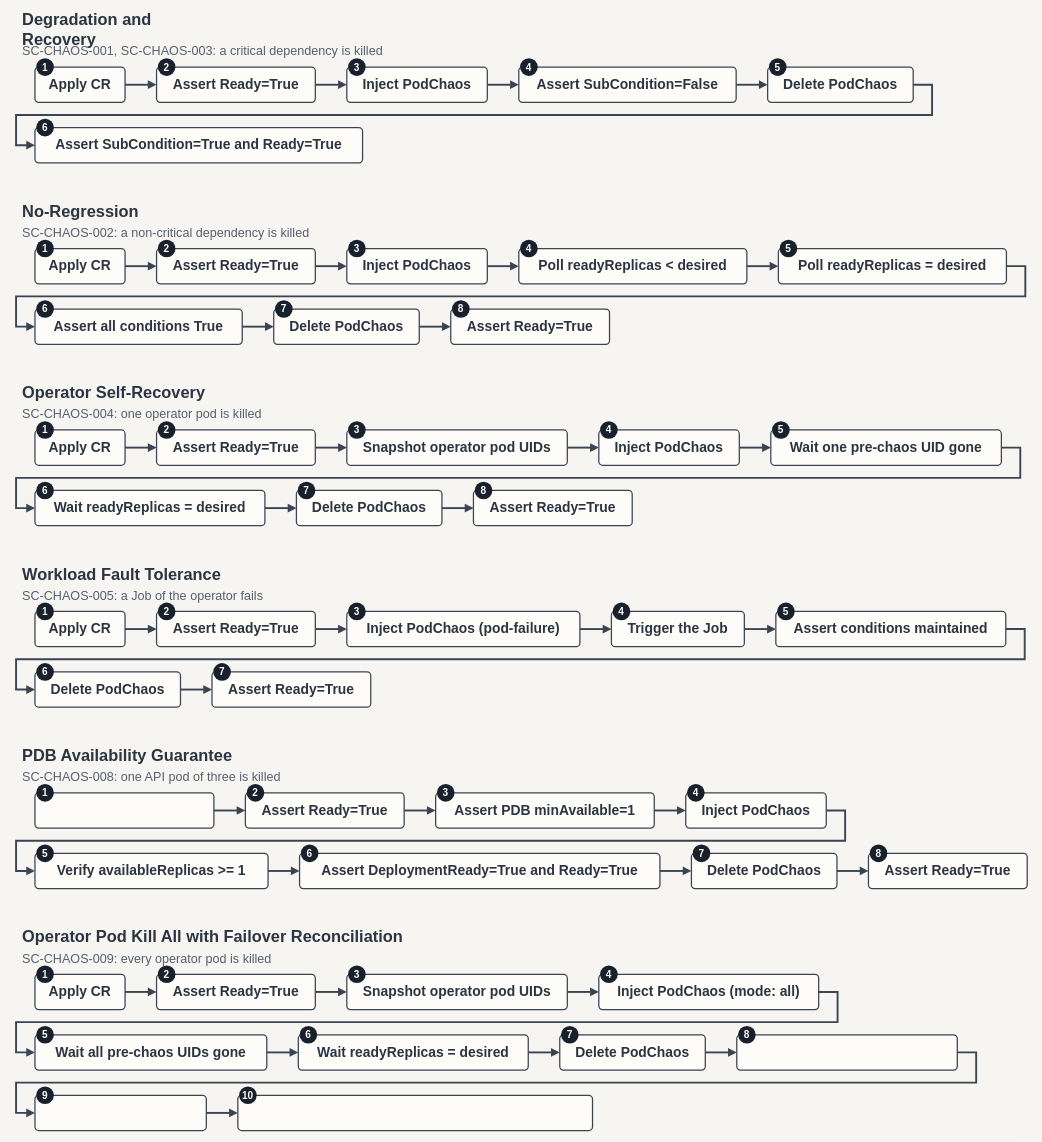
Some shapes in this 1042 by 1142 pixel diagram are drawn without their labels. Each missing label, with the box of its shape:
Apply CR (replicas: 3): (34, 792, 214, 828)
Assert all 6 conditions True: (736, 1034, 958, 1070)
Assert Deployment replicas=2 and Ready=True: (237, 1094, 593, 1131)
Patch replicas 1 to 2: (34, 1094, 207, 1131)
